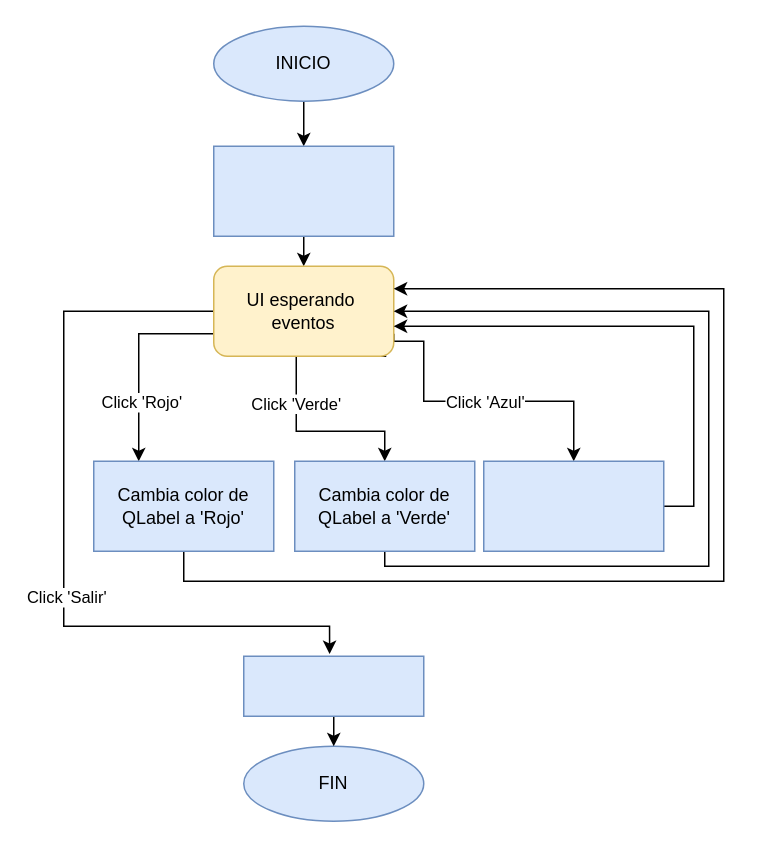
This 762x848 diagram has some shape labels left out. The shapes that lost their labels are listed below. From the top down, each one's box as (x1, y1, x2, y2) in pixels, then its label:
(212, 145, 394, 236): Incialización de aplicación
(482, 460, 664, 551): Cambia color de QLabel a 'Azul'
(242, 655, 424, 716): Cerrar aplicación
